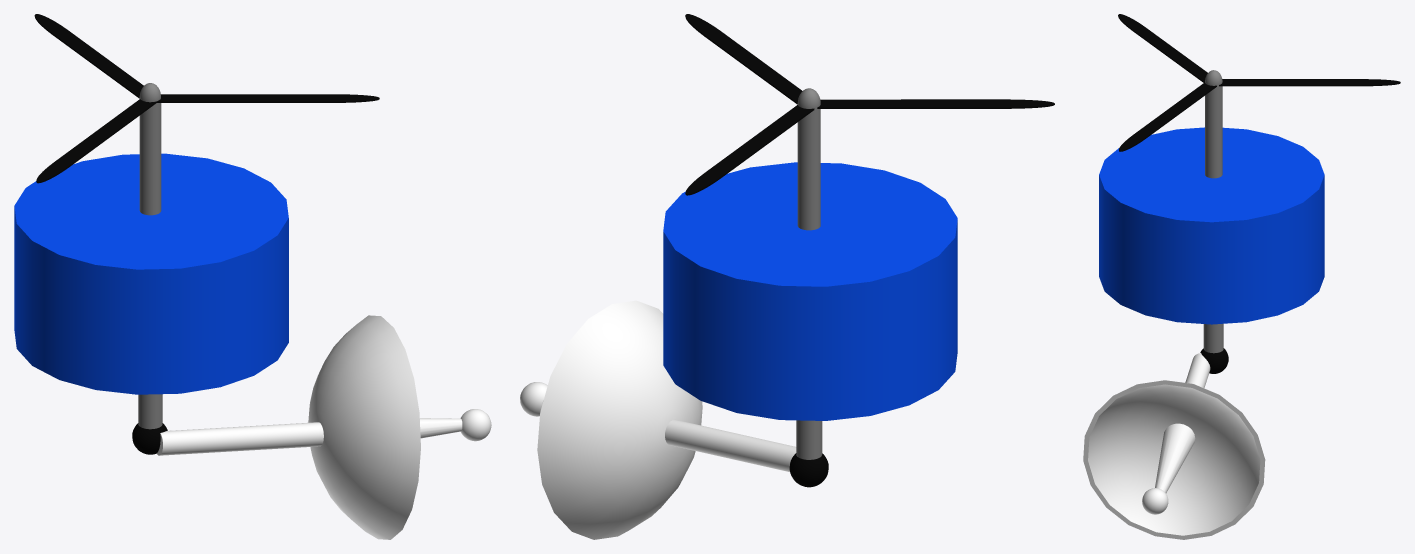
File: ジャミングボット.fbx
The picture shows the model from 3 angles, left to right: view 1: azimuth 30°, elevation 25°; view 2: azimuth 150°, elevation 25°; view 3: azimuth 270°, elevation 25°; orthographic projection. The views are drawn at different scales.
Parts seen in each view (by area): view 1: doutaijiku1, antena, puroperahontai; view 2: doutaijiku1, antena, puroperahontai; view 3: doutaijiku1, antena, puroperahontai.
Part boxes in pixels (left/top/right/bottom): doutaijiku1: left=14, top=83, right=288, bottom=454; antena: left=156, top=315, right=491, bottom=539; puroperahontai: left=34, top=14, right=379, bottom=183; doutaijiku1: left=663, top=88, right=957, bottom=487; antena: left=520, top=300, right=796, bottom=539; puroperahontai: left=685, top=14, right=1054, bottom=195; doutaijiku1: left=1099, top=70, right=1324, bottom=373; antena: left=1083, top=353, right=1265, bottom=539; puroperahontai: left=1118, top=14, right=1400, bottom=151.
Bounding box in the file's own units: 0.0843 × 0.0813 × 0.0599.
